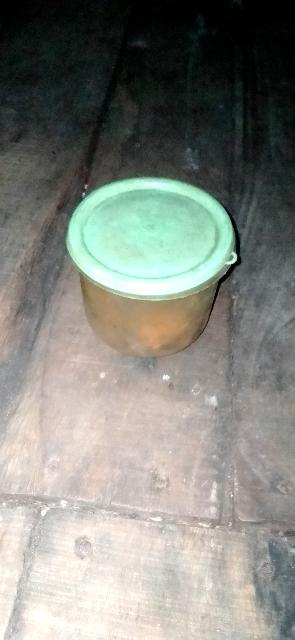hardplastic: (48, 160, 260, 385)
